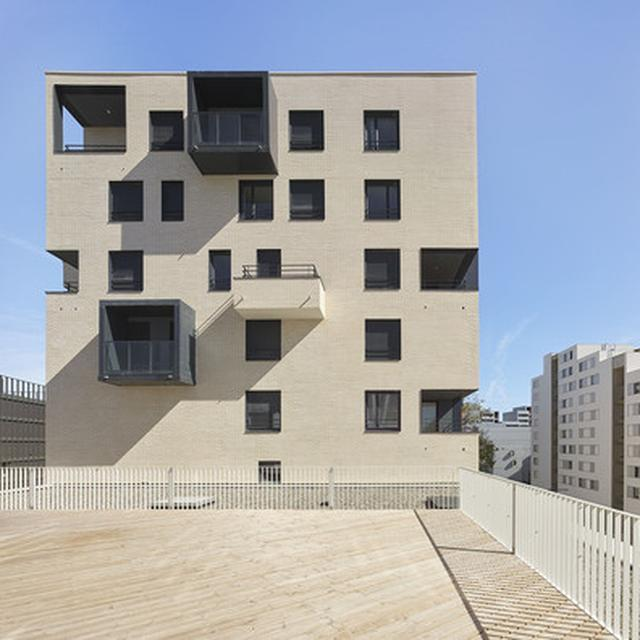building: (38, 63, 481, 501), (523, 328, 640, 552)
